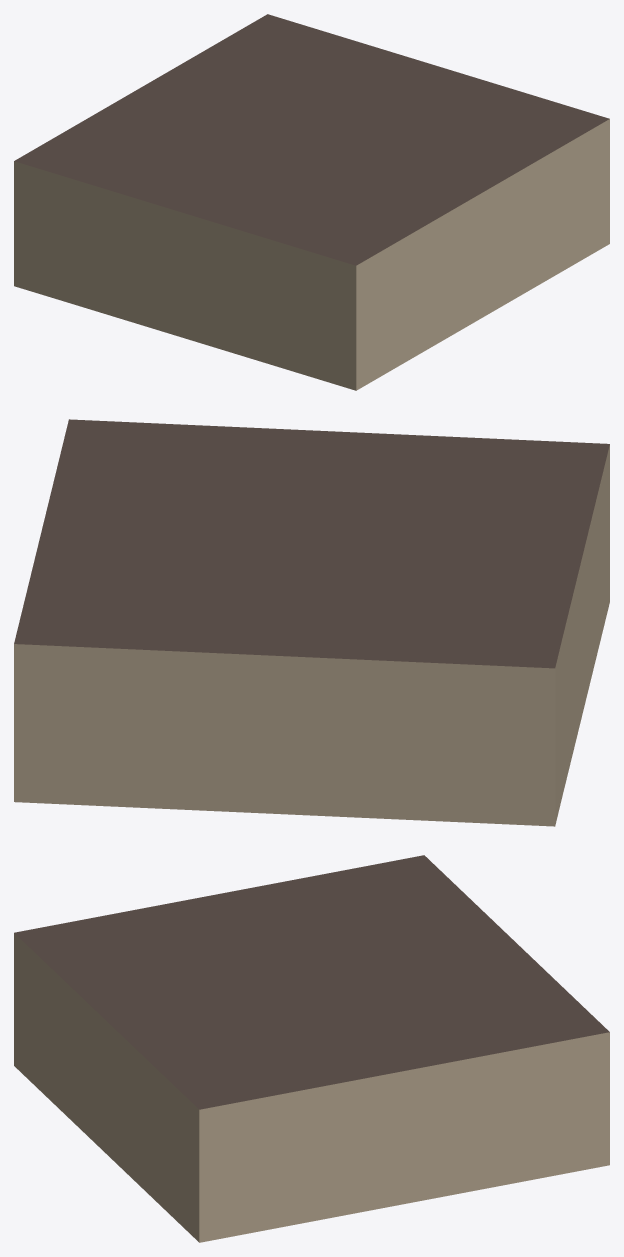
3 views of the same model, one above another, from view 1: azimuth 30°, elevation 25°; view 2: azimuth 150°, elevation 25°; view 3: azimuth 270°, elevation 25° (orthographic). The views are drawn at different scales.
Parts seen in each view (by area): view 1: HP-w289658165; view 2: HP-w289658165; view 3: HP-w289658165.
Part boxes in pixels (box(x1,y1,x2,y2)): HP-w289658165: box(14, 14, 609, 390); HP-w289658165: box(14, 419, 609, 826); HP-w289658165: box(14, 855, 609, 1242).
Size of the model in its own units: 36.92 by 9 by 36.52.
